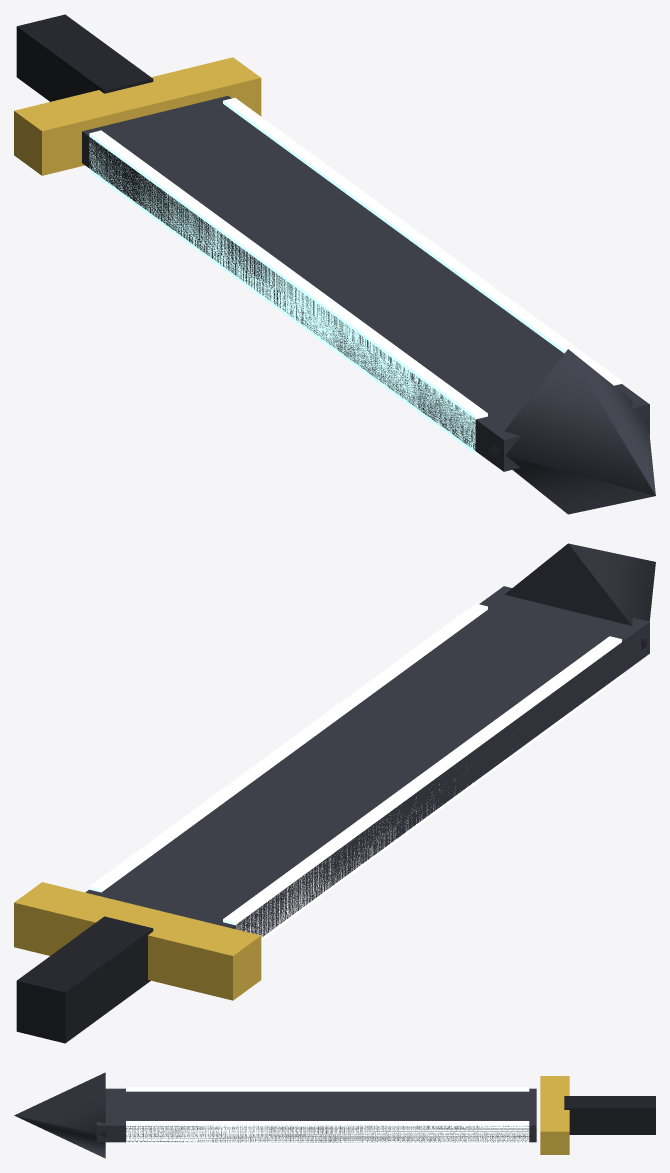
File: wpn_gaia_claymore.glb
3 renders of one model, top to bottom at view 1: azimuth 30°, elevation 25°; view 2: azimuth 150°, elevation 25°; view 3: azimuth 270°, elevation 25°, orthographic. The views are drawn at different scales.
Visible parts, largest first — view 1: weapon; view 2: weapon; view 3: weapon.
Part boxes in pixels (bbox=[...]): weapon: bbox=[14, 14, 655, 514]; weapon: bbox=[14, 543, 655, 1043]; weapon: bbox=[14, 1072, 655, 1158].
Bounding box in the file's own units: 0.36 × 0.26 × 1.75.
